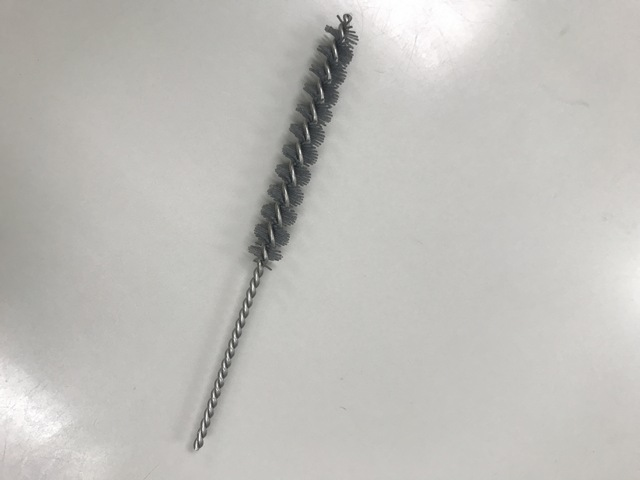Twist Brush-A: (192, 10, 358, 448)
